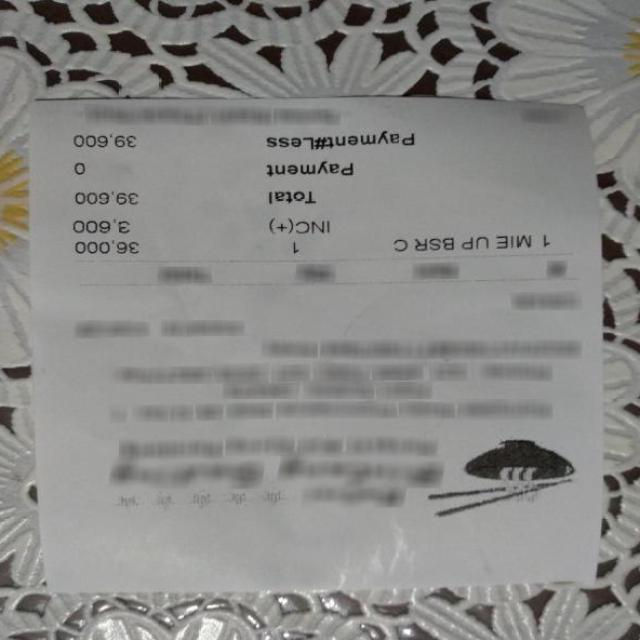kertas: (30, 95, 604, 593)
